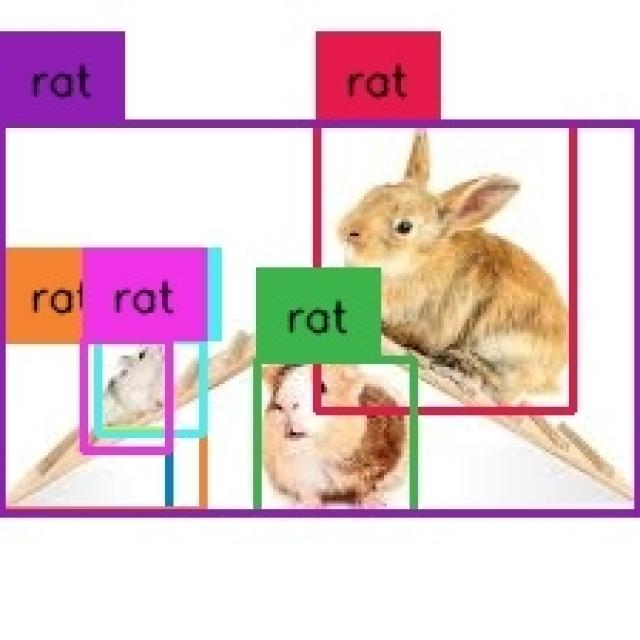rat: (1, 122, 638, 515), (318, 124, 572, 411), (2, 340, 204, 510), (2, 341, 170, 509), (256, 358, 412, 515), (97, 342, 205, 432), (82, 340, 168, 451), (98, 342, 169, 432)
